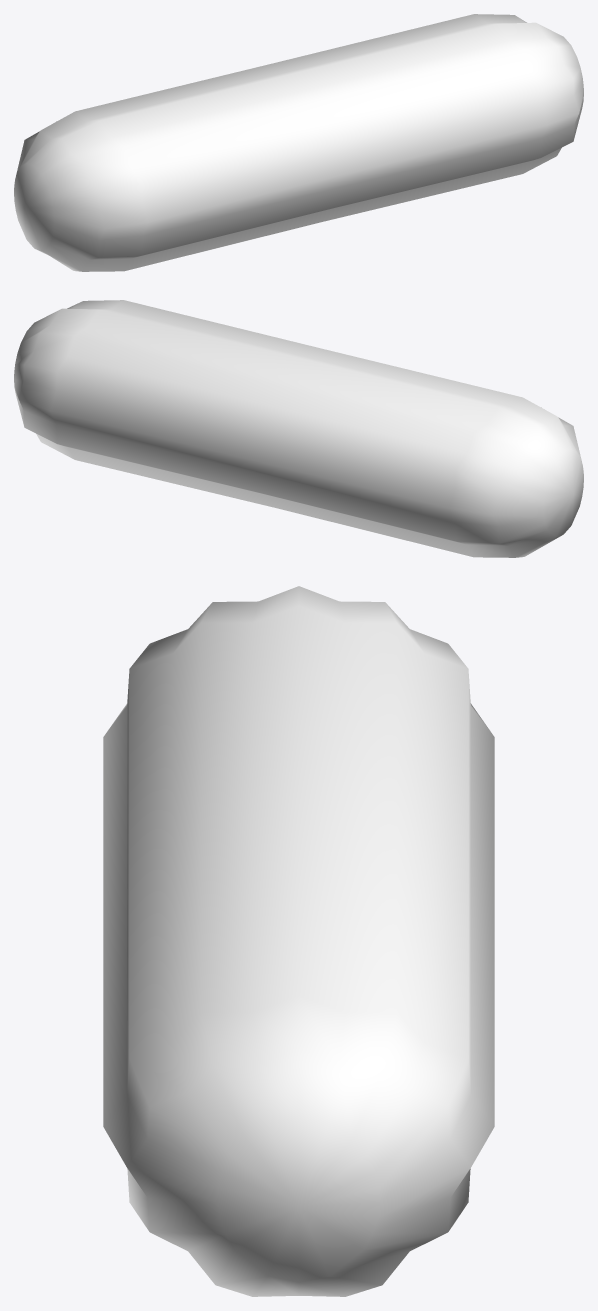
Rendered from Eclair_04.fbx.
3 renders of one model, top to bottom at view 1: azimuth 30°, elevation 25°; view 2: azimuth 150°, elevation 25°; view 3: azimuth 270°, elevation 25°, orthographic. The views are drawn at different scales.
Visible parts, largest first — view 1: Eclair_04; view 2: Eclair_04; view 3: Eclair_04.
Part boxes in pixels (x1=…): Eclair_04: x1=14, y1=14, x2=583, y2=271; Eclair_04: x1=14, y1=300, x2=583, y2=557; Eclair_04: x1=103, y1=586, x2=494, y2=1296.
Bounding box in the file's own units: 204 × 62.89 × 49.77.
